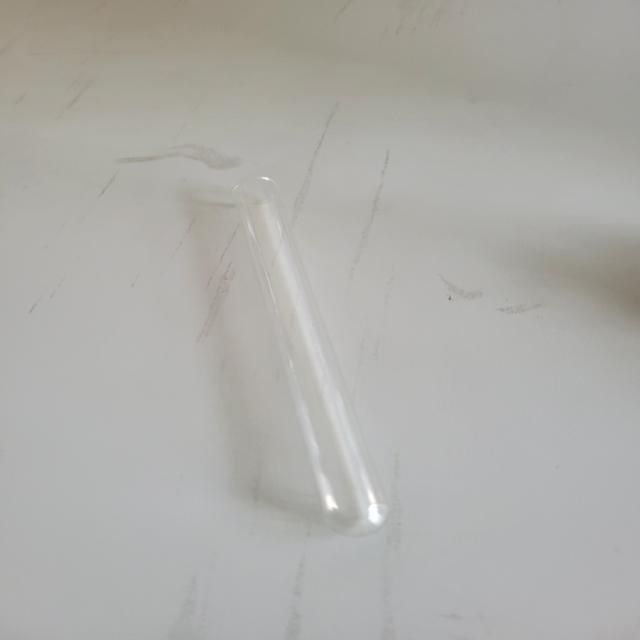Test_Tube: (199, 157, 443, 578)
